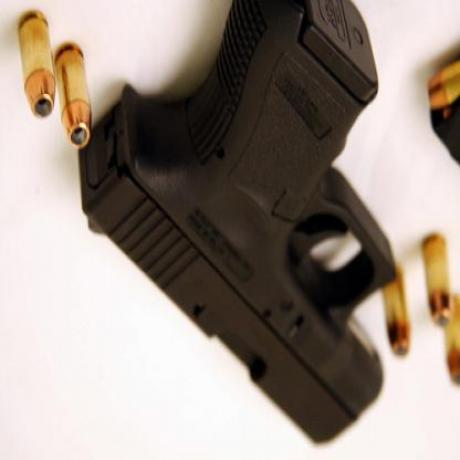weapon: (36, 2, 429, 455)
